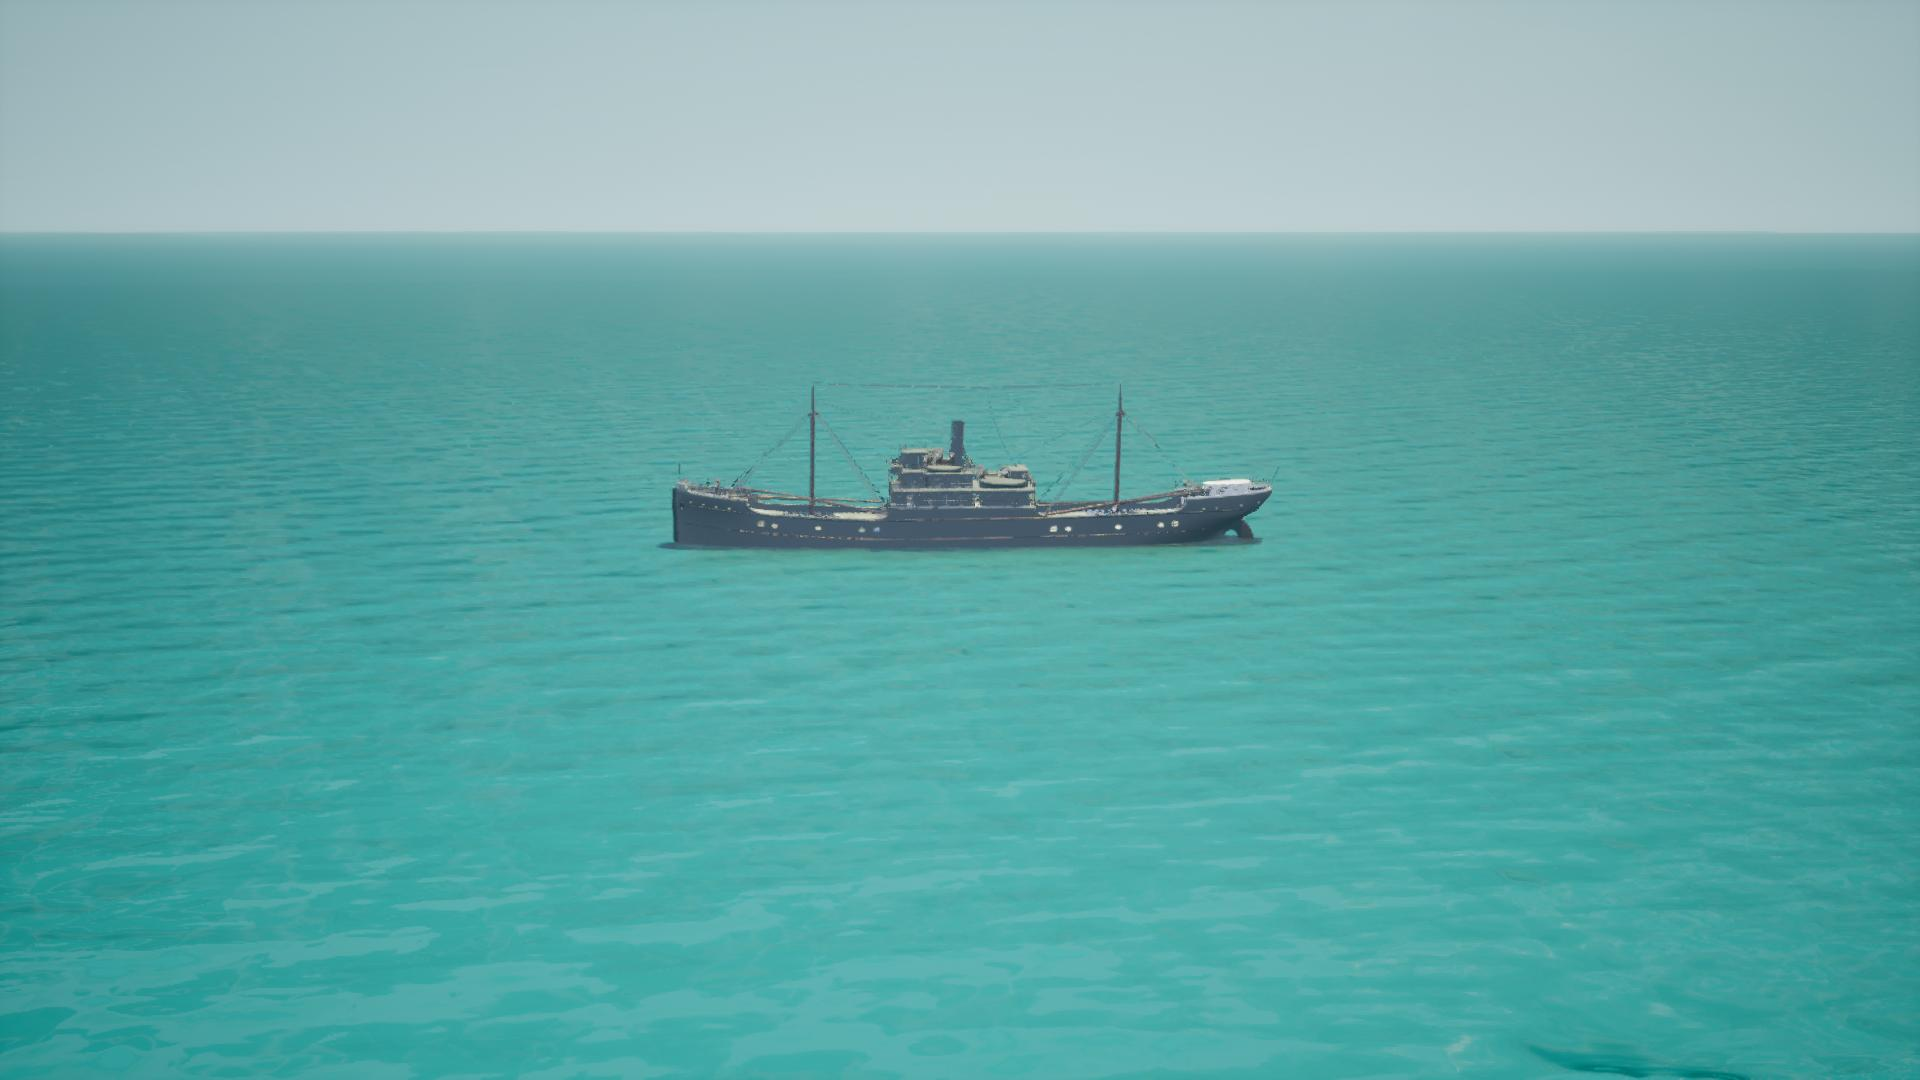Fishing Boat: (671, 384, 1273, 551)
